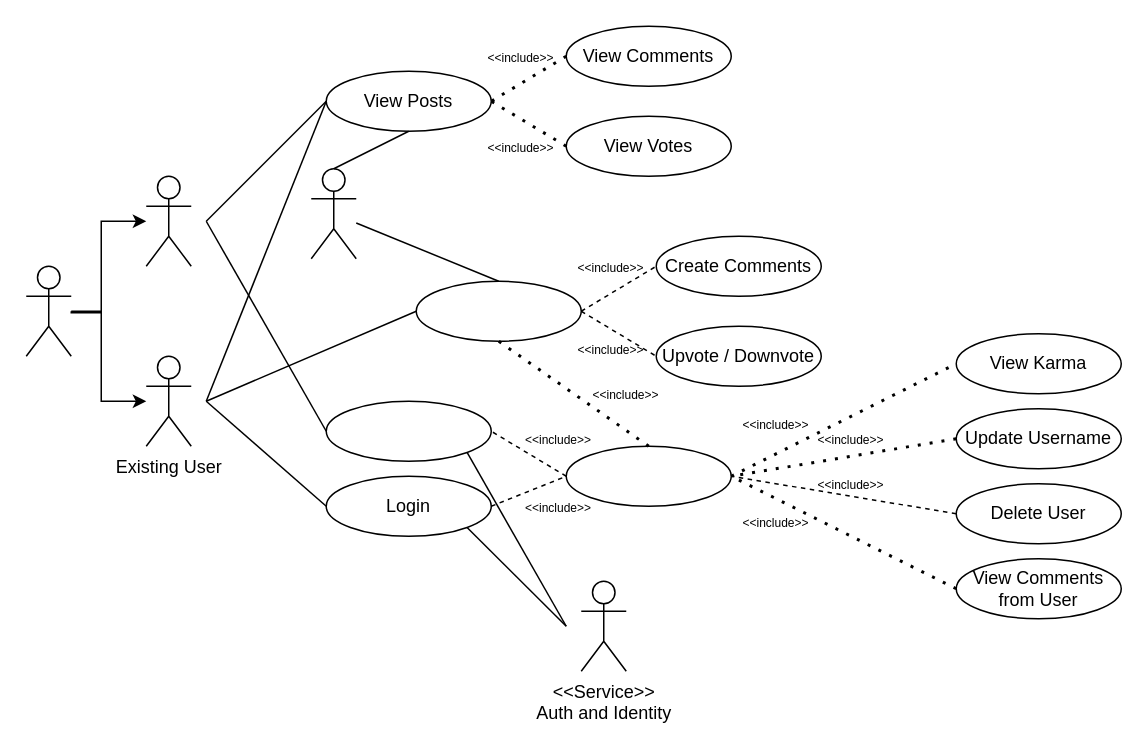
Some shapes in this 1148 by 752 pixel diagram are drawn without their labels. The shapes that lost their labels are listed below. From the top down, each one's box as (x1, y1, x2, y2) in pixels, then its label:
(145, 175, 191, 266): New User
(310, 167, 356, 259): <<Service>> Posts Repository
(25, 265, 71, 356): User
(415, 280, 581, 341): Create Posts
(325, 400, 491, 461): Create Account
(565, 445, 731, 506): Manage Account
